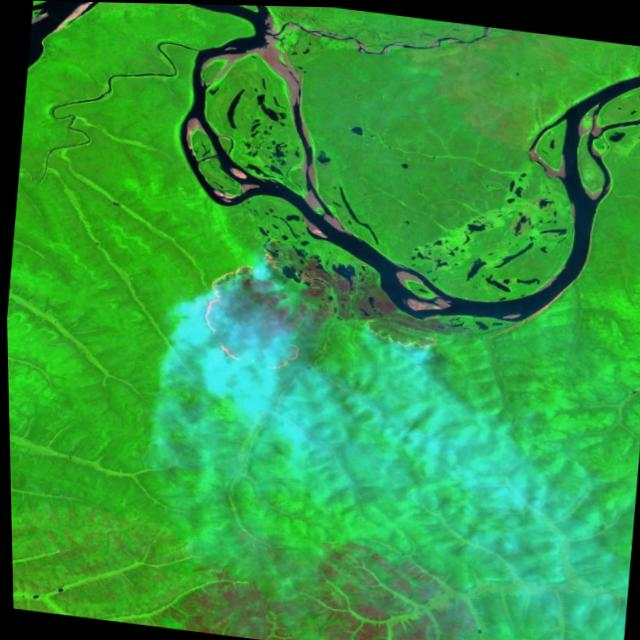fire: (183, 256, 306, 378), (355, 305, 444, 355)
